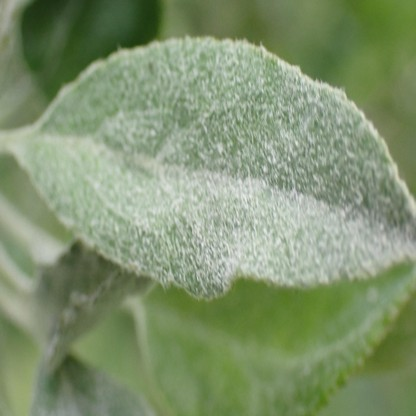powder: (22, 31, 416, 300), (36, 241, 133, 372), (58, 365, 148, 416)
